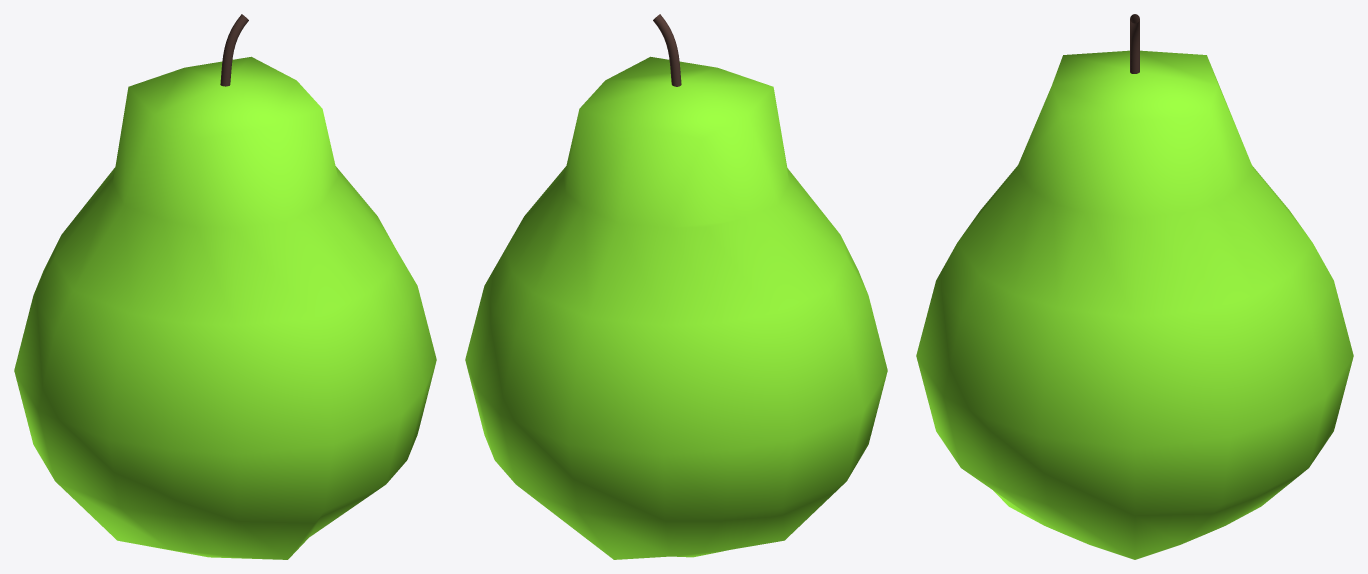
File: nashi01.fbx
The picture shows the model from 3 angles, left to right: view 1: azimuth 30°, elevation 25°; view 2: azimuth 150°, elevation 25°; view 3: azimuth 270°, elevation 25°; orthographic projection.
Visible parts, largest first — view 1: Base.001, Base.003; view 2: Base.001, Base.003; view 3: Base.001, Base.003.
Boxes of the visible parts, left/top/right/bottom form: Base.001: left=14, top=56, right=436, bottom=559; Base.003: left=220, top=14, right=248, bottom=86; Base.001: left=465, top=56, right=887, bottom=559; Base.003: left=653, top=14, right=681, bottom=86; Base.001: left=916, top=50, right=1353, bottom=559; Base.003: left=1130, top=14, right=1139, bottom=73.
Size of the model in its own units: 1.27 by 1.66 by 1.27.
